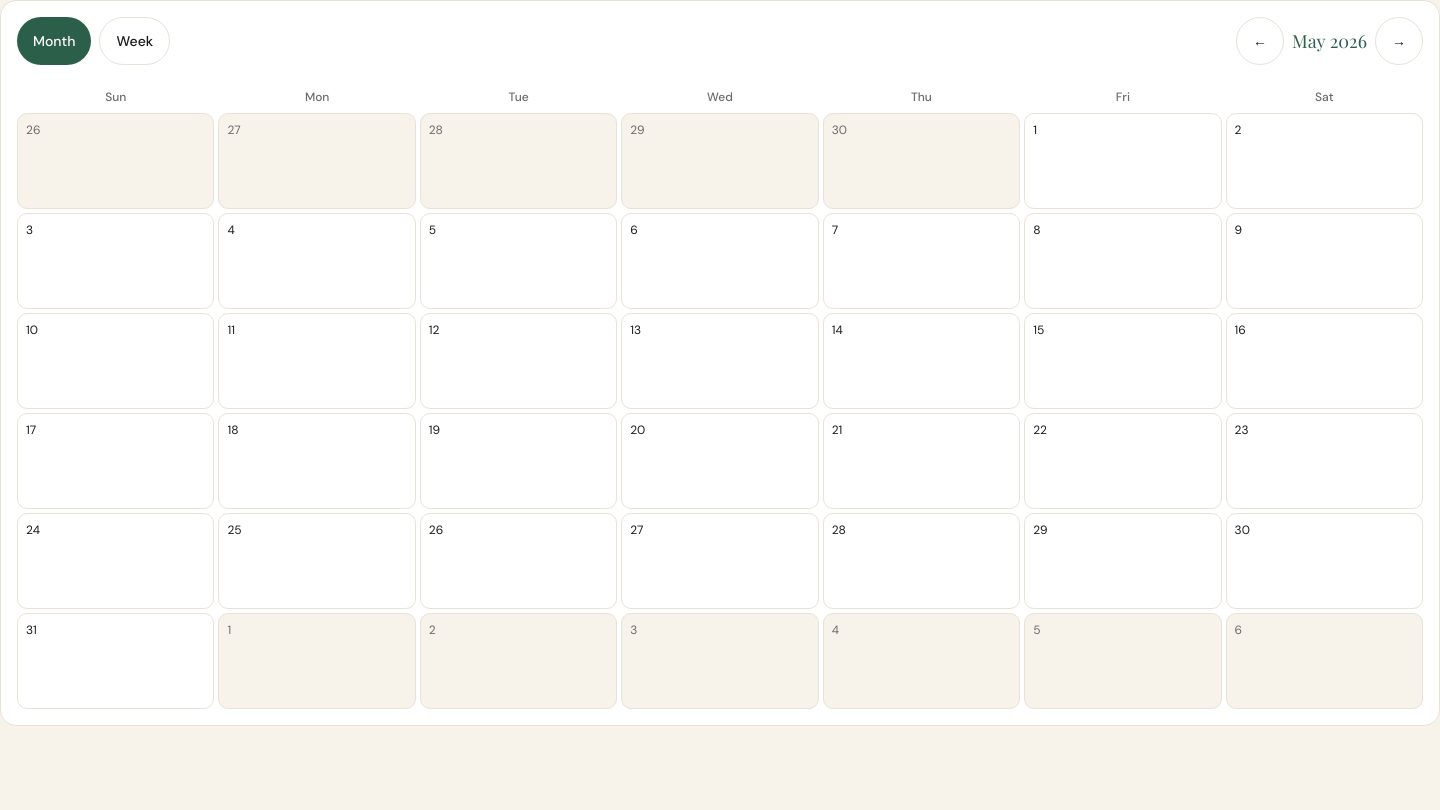
AppointmentCalendar › 31. switches to week view and shows the empty-state copy on a quiet day
Click the button "Week" at (135, 41), box [100,17,170,65]
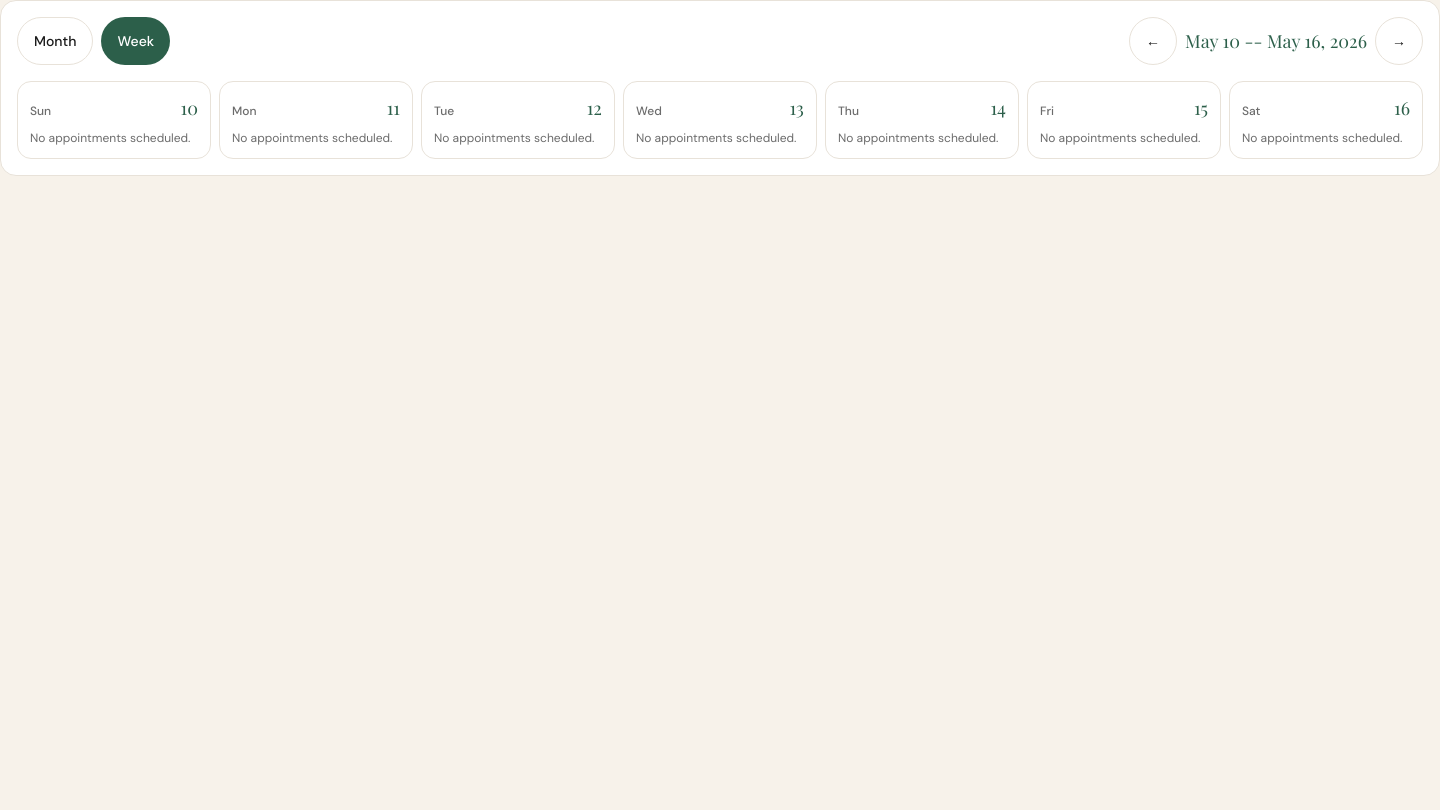
Result: the text "No appointments scheduled." below "Sun" is shown at [30,130,190,146]
